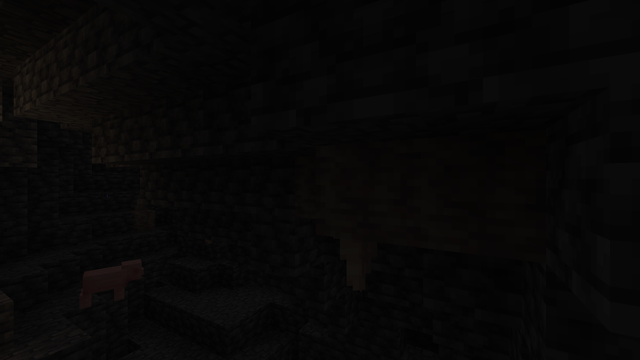cochons: (80, 263, 129, 309)
